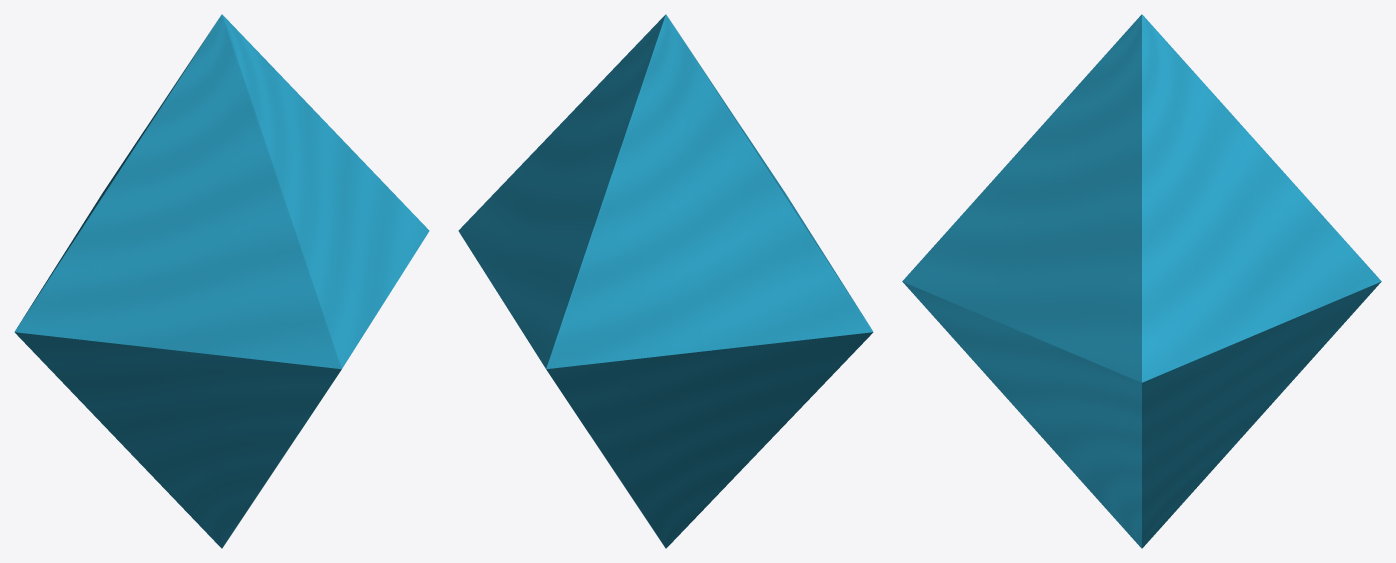
The model's file is tier-t3.glb.
3 views of the same model, side by side, from view 1: azimuth 30°, elevation 25°; view 2: azimuth 150°, elevation 25°; view 3: azimuth 270°, elevation 25° (orthographic).
Visible parts, largest first — view 1: gem-t3-void-forged-top, gem-t3-void-forged-bottom; view 2: gem-t3-void-forged-top, gem-t3-void-forged-bottom; view 3: gem-t3-void-forged-top, gem-t3-void-forged-bottom.
Boxes of the visible parts, bbox=[...] form: gem-t3-void-forged-top: bbox=[14, 14, 429, 369]; gem-t3-void-forged-bottom: bbox=[15, 332, 341, 548]; gem-t3-void-forged-top: bbox=[458, 14, 873, 369]; gem-t3-void-forged-bottom: bbox=[546, 332, 872, 548]; gem-t3-void-forged-top: bbox=[902, 14, 1381, 382]; gem-t3-void-forged-bottom: bbox=[902, 281, 1381, 548].
Size of the model in its own units: 0.26 by 0.32 by 0.26.
2 materials, 2 textured.
